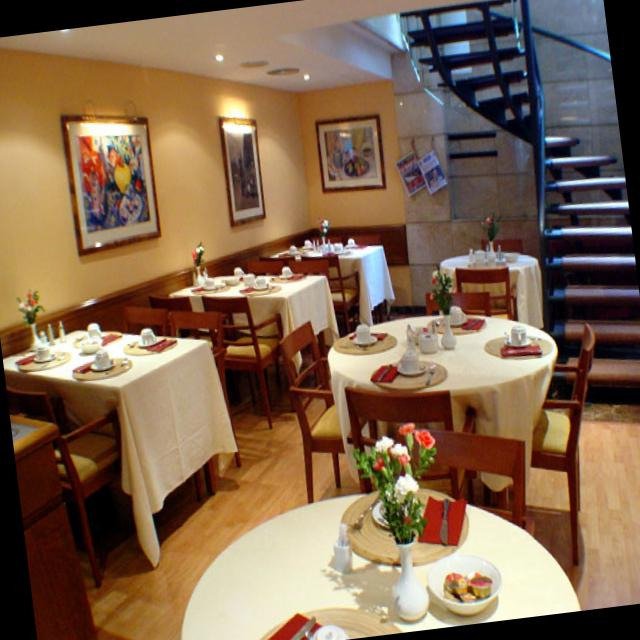chair part: (530, 318, 596, 560), (345, 383, 482, 498), (279, 316, 355, 499), (204, 290, 284, 424), (414, 431, 526, 521), (303, 252, 361, 330), (458, 263, 513, 314)
cup and saucer: (395, 347, 426, 374), (90, 346, 111, 369), (137, 325, 159, 346)
dish -X: (414, 543, 508, 614)
floor -X: (25, 308, 640, 640)
flowers in pot: (357, 420, 436, 532), (19, 288, 44, 324)
knife holder: (441, 499, 449, 539)
lamp crop: (215, 49, 226, 61)
magazine holder: (398, 147, 427, 195), (419, 148, 448, 193)
napkin ring: (421, 495, 467, 544)
picture crop: (61, 113, 162, 251), (219, 116, 267, 224), (317, 111, 385, 187)
staircase: (401, 0, 640, 387)
table runner: (181, 483, 580, 640), (4, 324, 236, 563), (328, 308, 558, 486), (170, 273, 338, 376), (269, 239, 394, 321), (437, 248, 542, 322)
vase -X: (396, 529, 430, 621), (31, 321, 42, 348)
wall clock: (0, 45, 319, 526), (389, 47, 541, 340), (297, 76, 413, 310), (531, 0, 625, 175), (361, 6, 408, 46)
